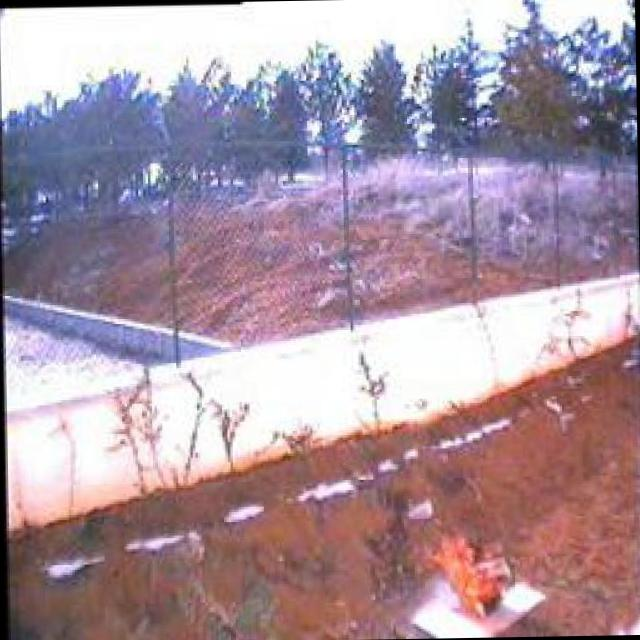Fire: (424, 520, 512, 623)
